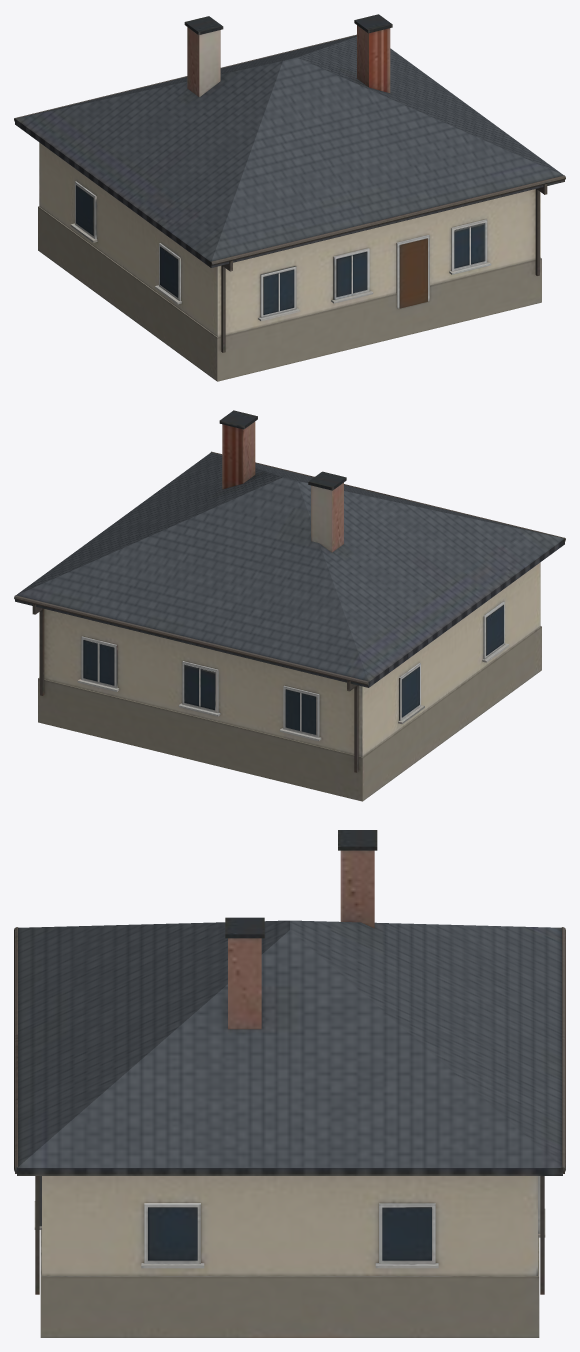
The model's file is dom_szk3.glb.
The picture shows the model from 3 angles, top to bottom: view 1: azimuth 30°, elevation 25°; view 2: azimuth 150°, elevation 25°; view 3: azimuth 270°, elevation 25°; orthographic projection. The views are drawn at different scales.
Visible parts, largest first — view 1: dom_szk3; view 2: dom_szk3; view 3: dom_szk3.
Part boxes in pixels (<box>): dom_szk3: <box>14,14,565,381</box>; dom_szk3: <box>14,410,565,801</box>; dom_szk3: <box>14,830,565,1337</box>.
Bounding box in the file's own units: 12.6 × 8.5 × 12.24.
1 material, 1 textured.
